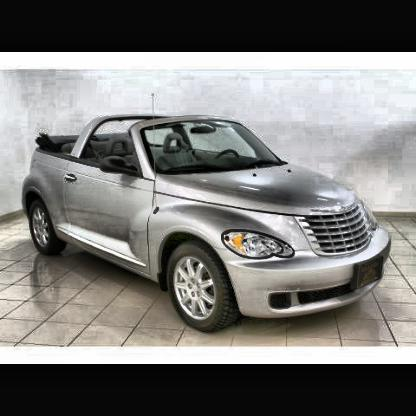Chrysler PT Cruiser Convertible 2008: (22, 92, 392, 334)
